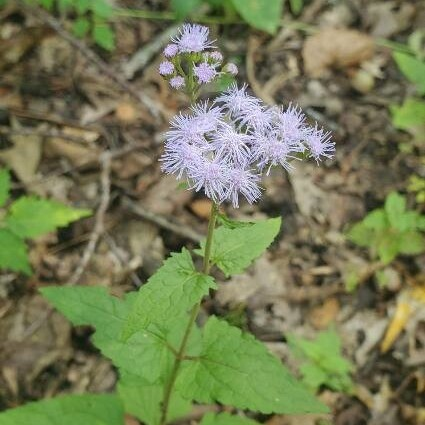obstacle: (114, 33, 308, 418)
